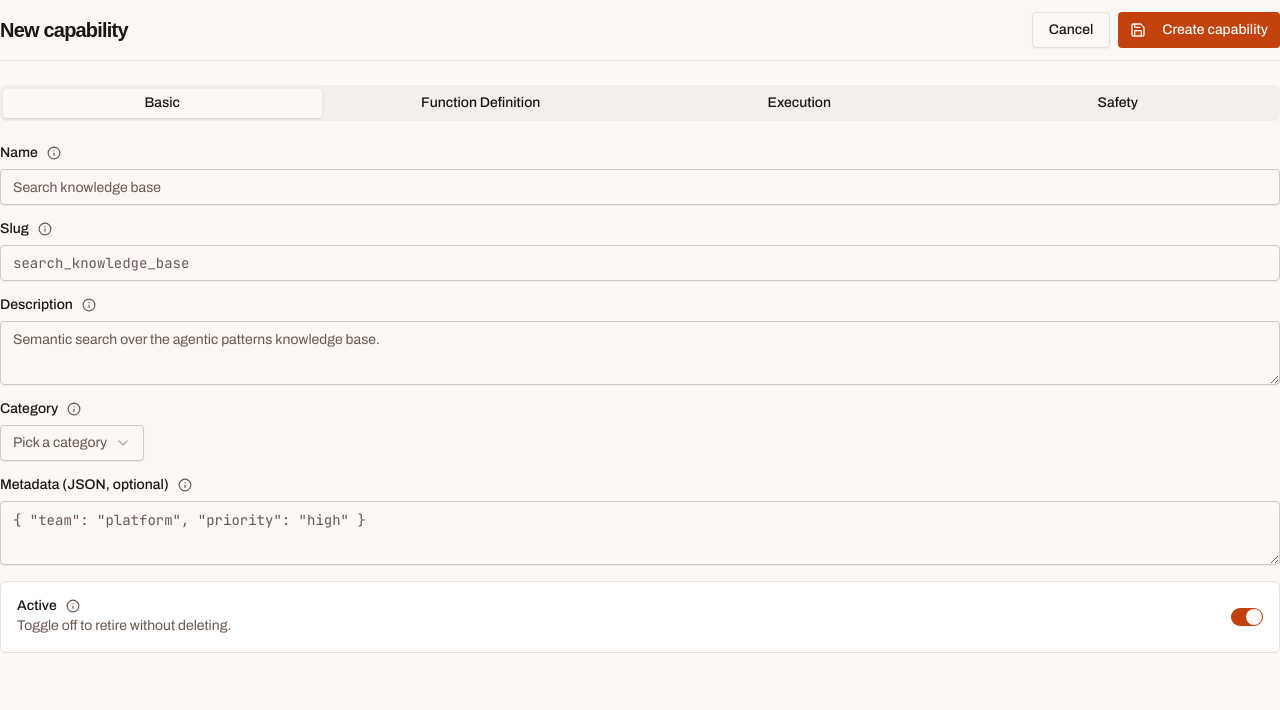
Scenario: CapabilityForm — Function Definition tab › visual builder › filling parameter fields updates the live preview JSON
Click the tab "Function Definition": point(481, 103) [322,88,640,118]
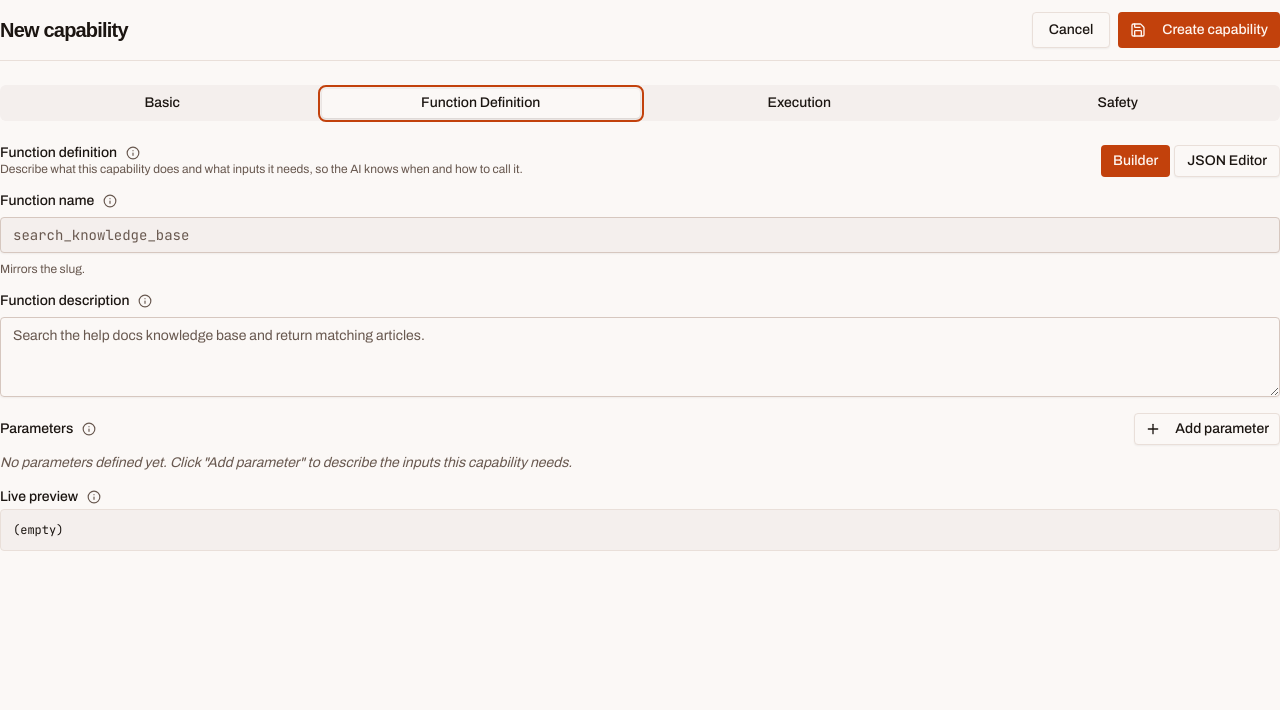
Click the button "Add parameter": point(1207, 429) [1134,413,1279,445]
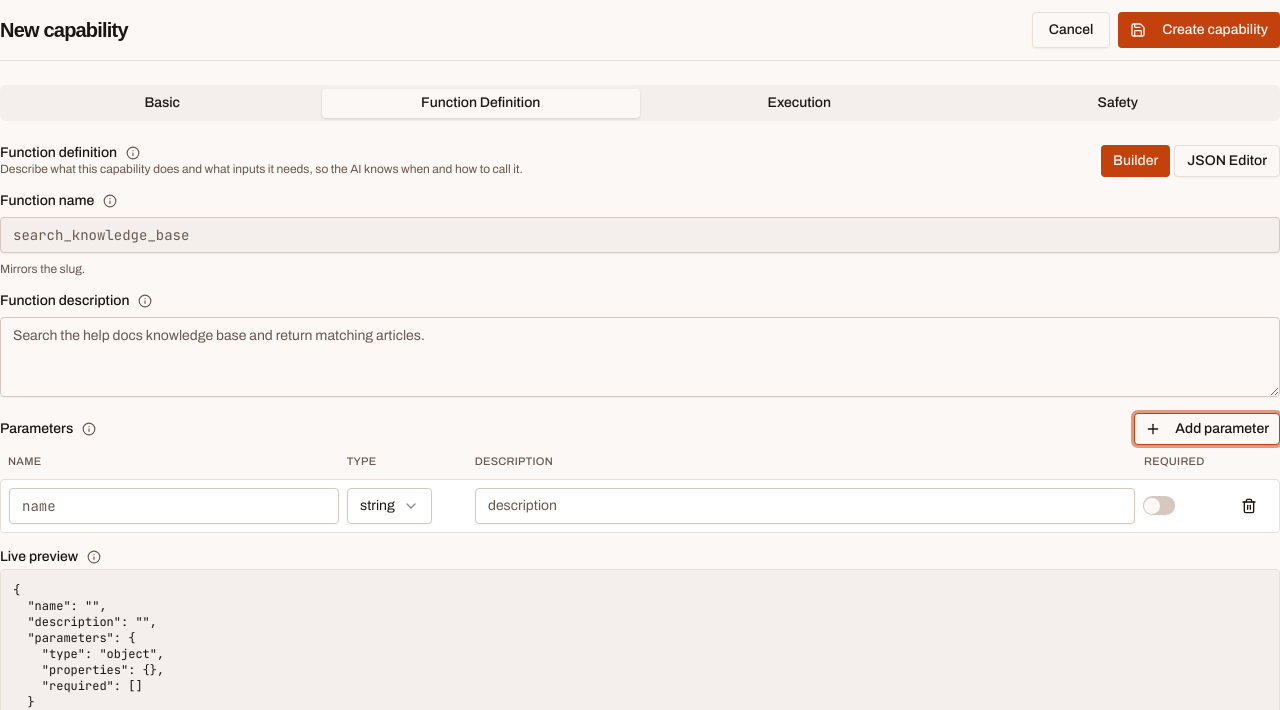
In the field with placeholder "name": point(174, 506) [9,488,339,524], type "query"
(page scrolled)
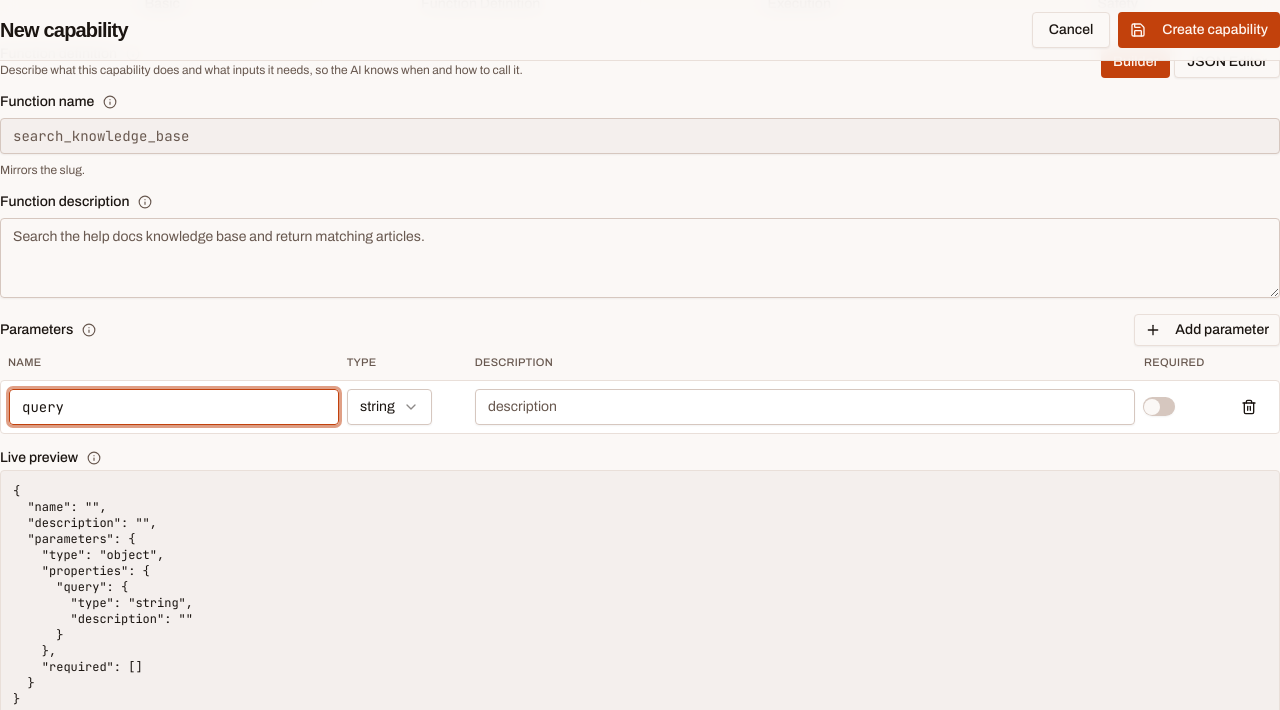
Result: the text "query" is shown at [13,483,193,707]
